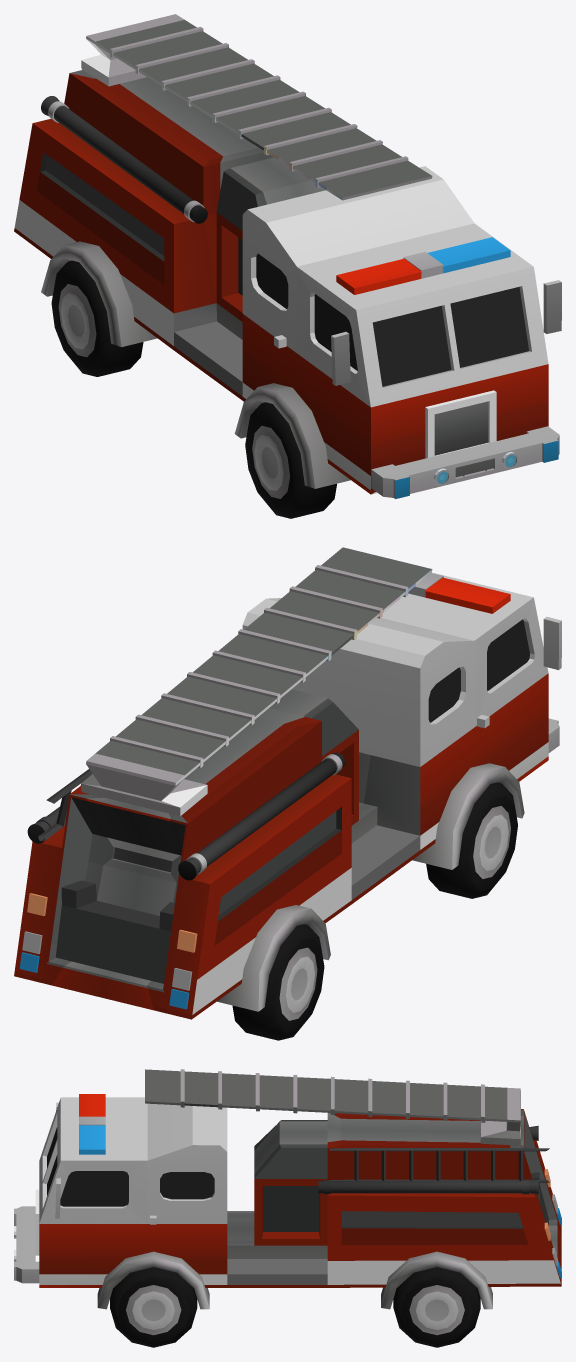
The model's file is Truck_kun.fbx.
3 views of the same model, one above another, from view 1: azimuth 30°, elevation 25°; view 2: azimuth 150°, elevation 25°; view 3: azimuth 270°, elevation 25° (orthographic). The views are drawn at different scales.
Parts seen in each view (by area): view 1: Circle.003; view 2: Circle.003; view 3: Circle.003.
Part boxes in pixels (bbox=[...]): Circle.003: bbox=[14, 14, 561, 518]; Circle.003: bbox=[14, 547, 561, 1040]; Circle.003: bbox=[14, 1069, 561, 1347].
Size of the model in its own units: 288 by 370 by 818.
